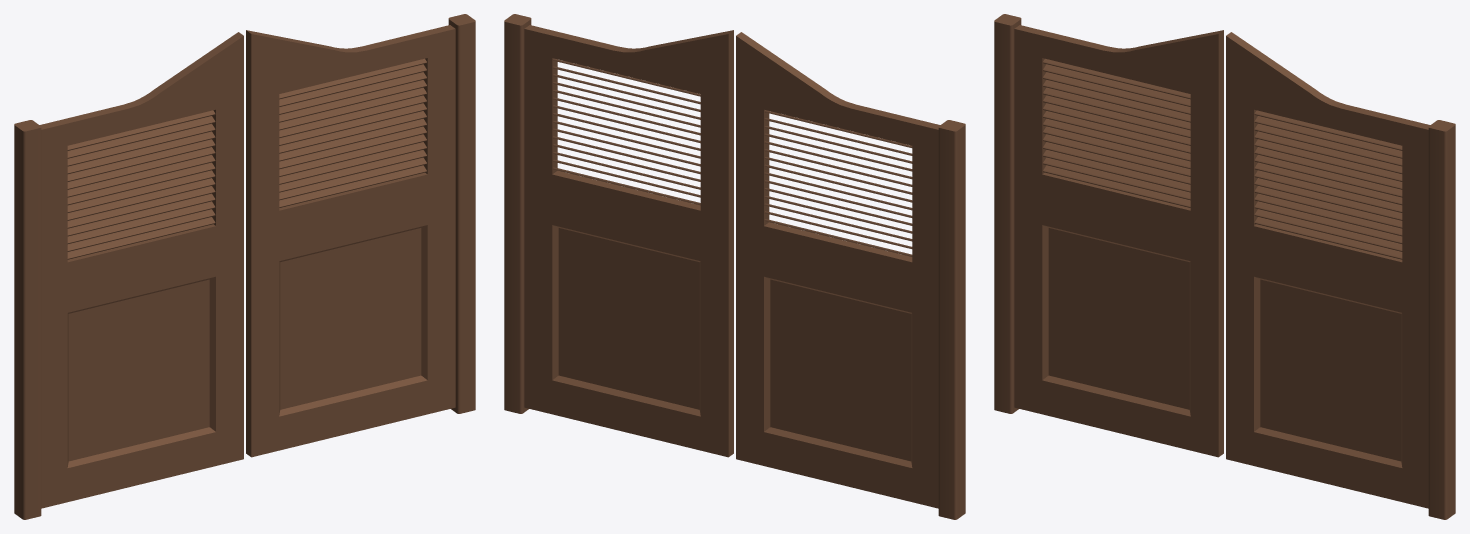
File: western saloon doors.fbx
3 renders of one model, left to right at view 1: azimuth 30°, elevation 25°; view 2: azimuth 150°, elevation 25°; view 3: azimuth 330°, elevation 25°, orthographic.
Parts seen in each view (by area): view 1: Western saloon doors right, Western saloon doors left; view 2: Western saloon doors right, Western saloon doors left; view 3: Western saloon doors left, Western saloon doors right.
Part boxes in pixels (box(x1,y1,x2,y2)): Western saloon doors right: box(14, 32, 243, 519); Western saloon doors left: box(246, 14, 475, 457); Western saloon doors right: box(736, 32, 965, 519); Western saloon doors left: box(504, 14, 733, 457); Western saloon doors left: box(1226, 32, 1455, 519); Western saloon doors right: box(994, 14, 1223, 457).
Size of the model in its own units: 1220 by 1103 by 50.
